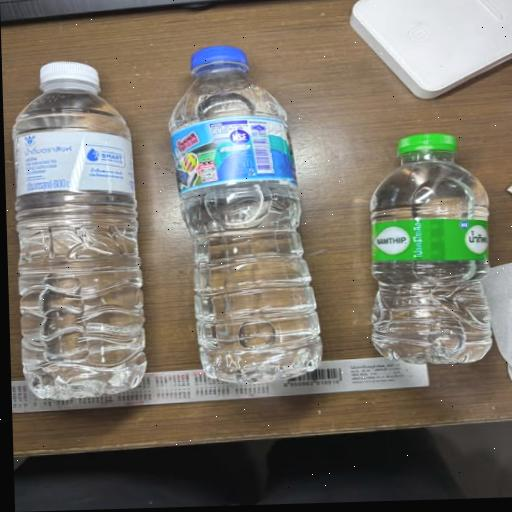bottle: (153, 26, 348, 404), (2, 52, 167, 410), (351, 116, 508, 400)
